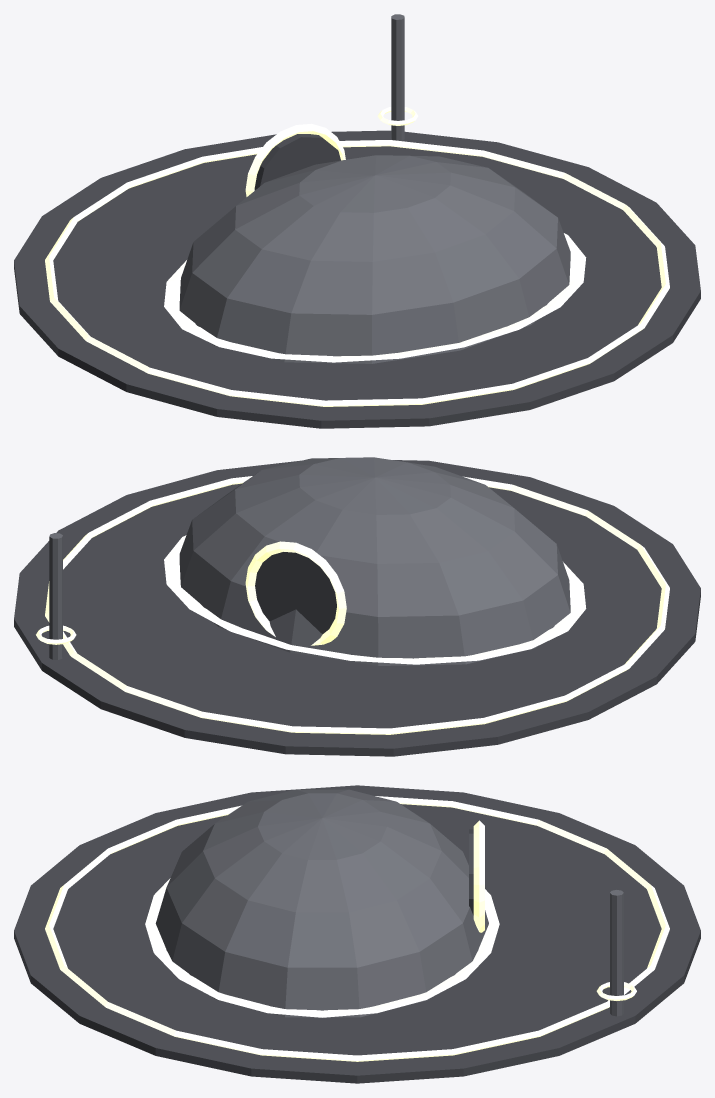
Rendered from zone_low_1_t1.glb.
The picture shows the model from 3 angles, top to bottom: view 1: azimuth 30°, elevation 25°; view 2: azimuth 150°, elevation 25°; view 3: azimuth 270°, elevation 25°; orthographic projection.
Parts seen in each view (by area): view 1: zone_low_1_t1, detail; view 2: zone_low_1_t1, detail; view 3: zone_low_1_t1, detail.
Part boxes in pixels (bbox=[...]): zone_low_1_t1: bbox=[14, 123, 700, 428]; detail: bbox=[45, 14, 669, 406]; zone_low_1_t1: bbox=[14, 457, 700, 756]; detail: bbox=[36, 476, 669, 734]; zone_low_1_t1: bbox=[14, 785, 700, 1083]; detail: bbox=[45, 796, 669, 1061].
Size of the model in its own units: 19.6 by 4.05 by 19.6.
